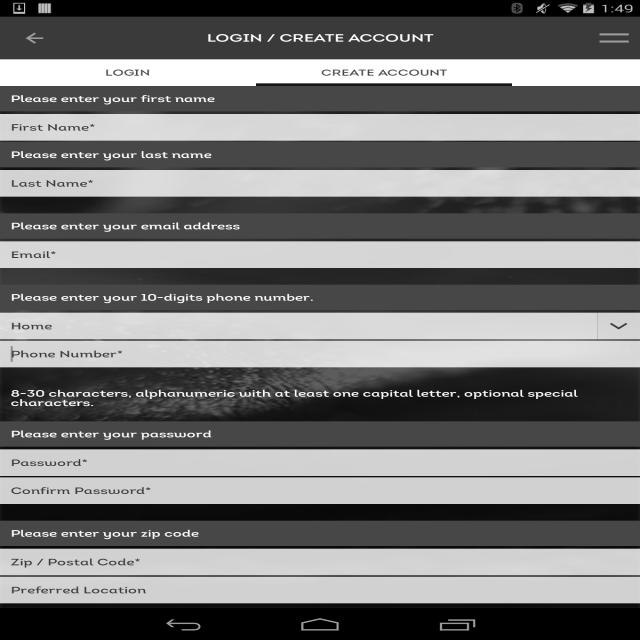EditText: (0, 449, 640, 476), (0, 477, 640, 504)
ImageButton: (0, 19, 60, 57)
ImageView: (0, 86, 640, 608), (597, 313, 640, 339)
TextView: (0, 381, 640, 415), (0, 213, 640, 239), (0, 421, 640, 447), (0, 312, 597, 339), (0, 86, 640, 111), (0, 142, 640, 167), (0, 285, 640, 310), (0, 521, 640, 546), (11, 580, 629, 600), (207, 31, 434, 45), (589, 22, 640, 54), (320, 67, 448, 78), (105, 67, 150, 78)
